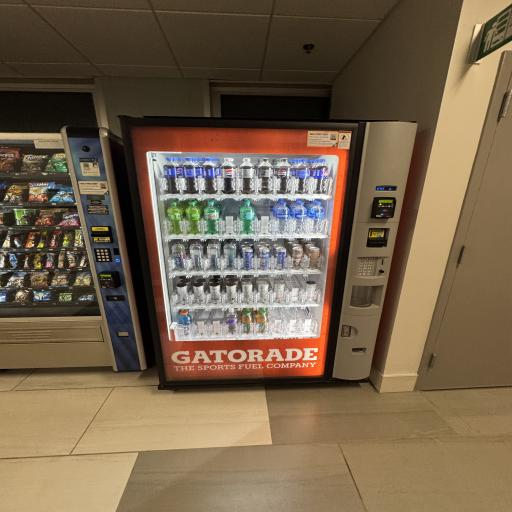door: (487, 58, 512, 393)
vending machine: (117, 112, 408, 390), (0, 124, 115, 386)
vending machine sign: (477, 13, 512, 54)
